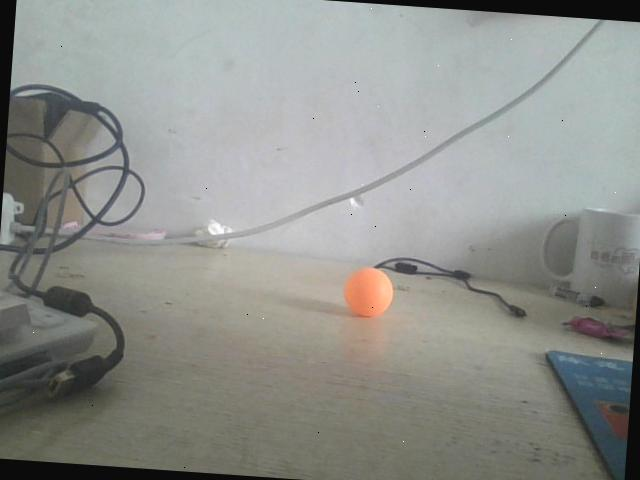ball: (342, 266, 392, 318)
